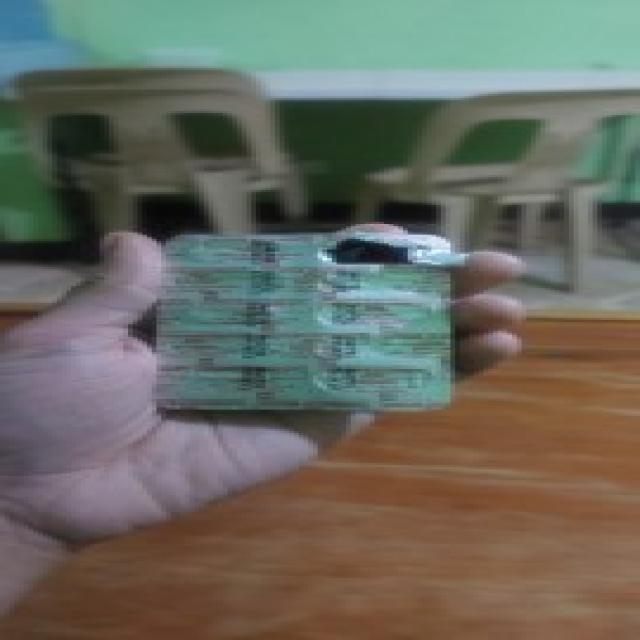Cacat: (159, 234, 455, 413)
Kemasan: (319, 237, 436, 280)
